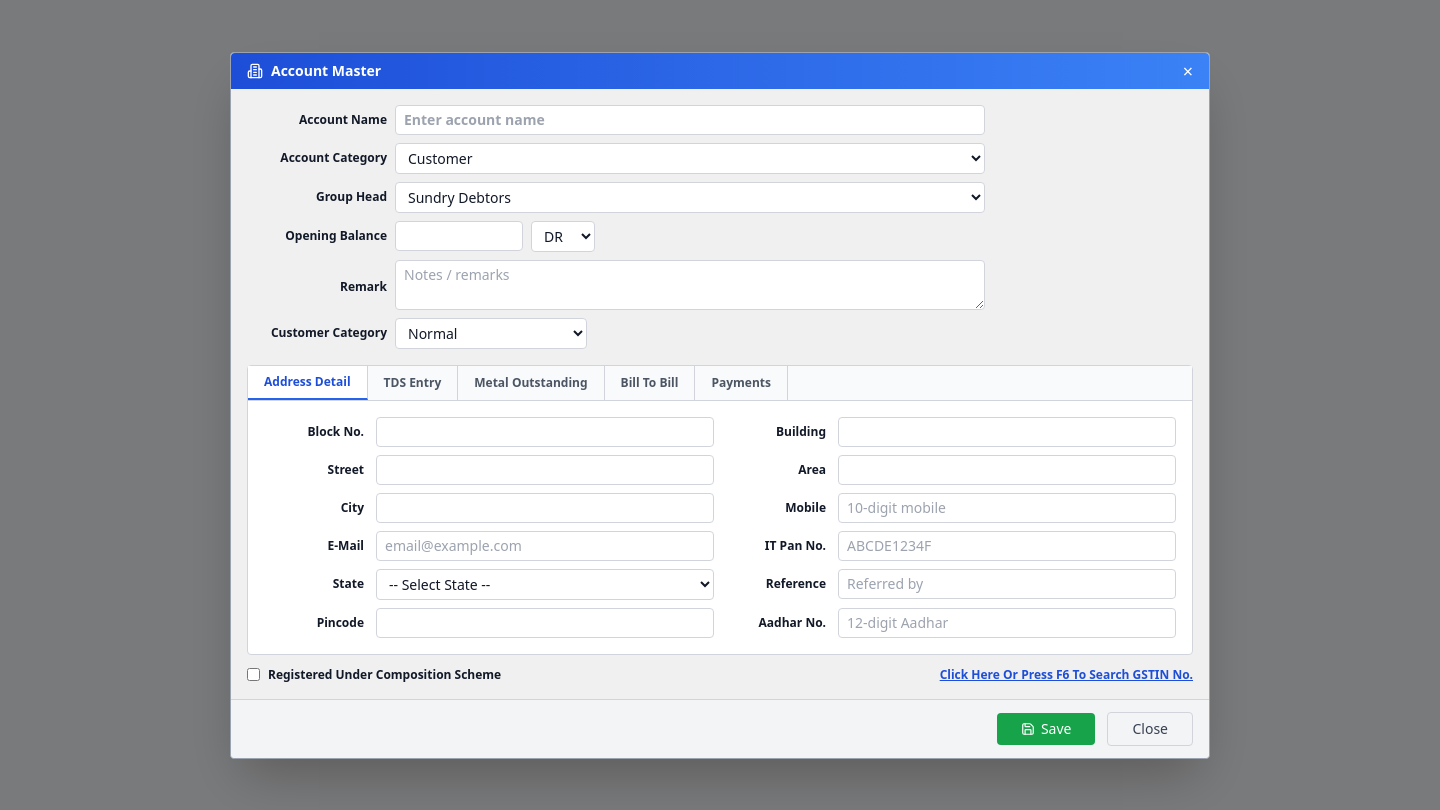
Test: AccountMasterModal › tab navigation › shows "Coming Soon" when clicking TDS Entry tab
What coordinates should you click on to do the following:
click the button "TDS Entry"
I would click on:
 (413, 382)
Its box is [368,366,458,400].
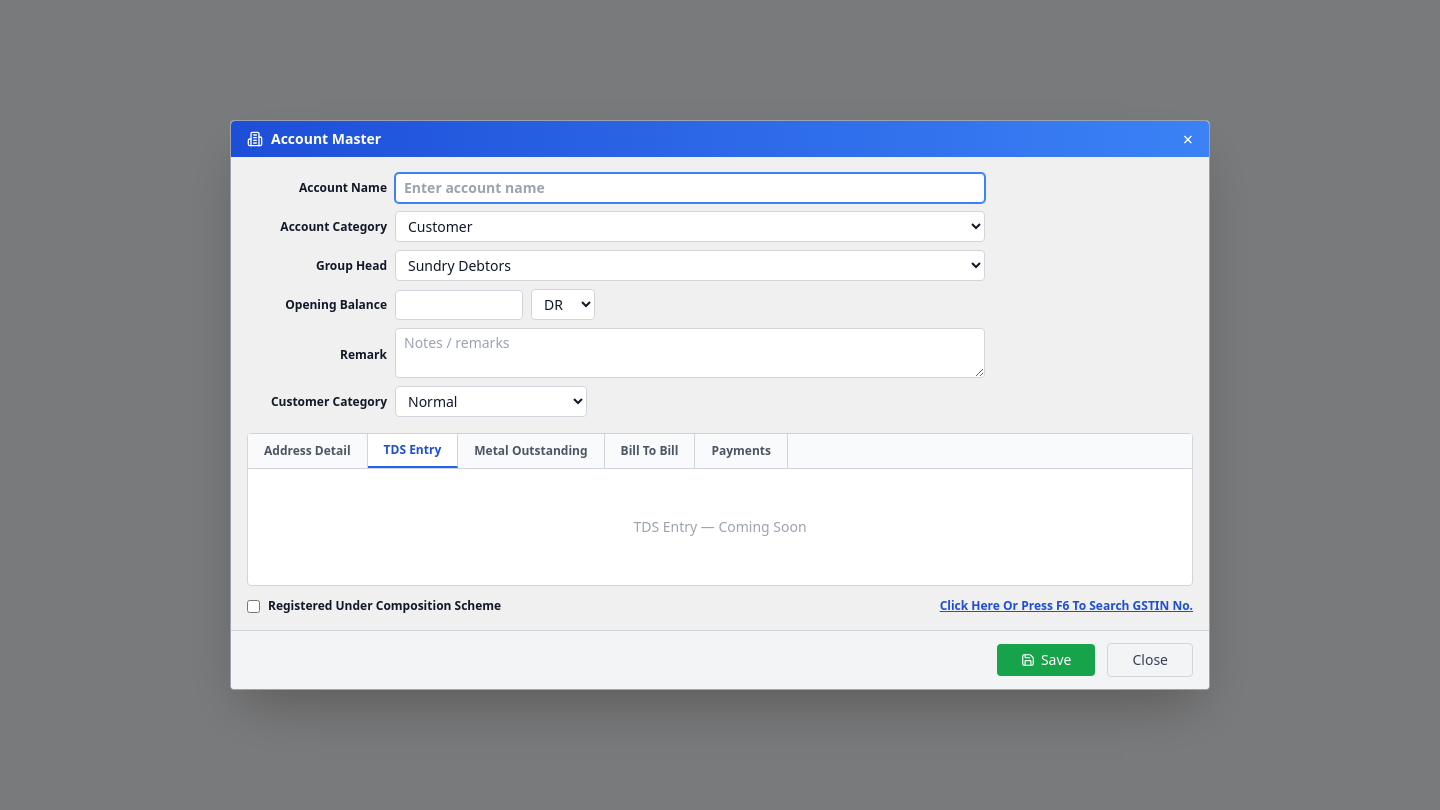
Check: the text "TDS Entry — Coming Soon" is shown, box [633,517,807,536]
